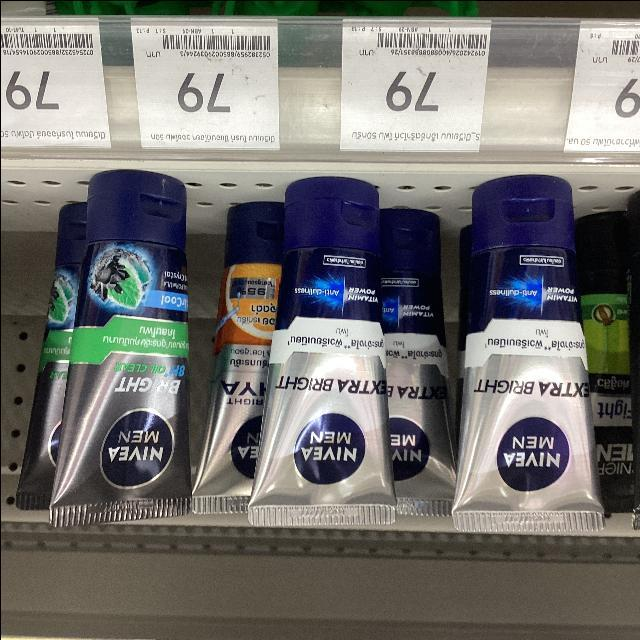Squeeze Tube: (37, 153, 625, 551)
